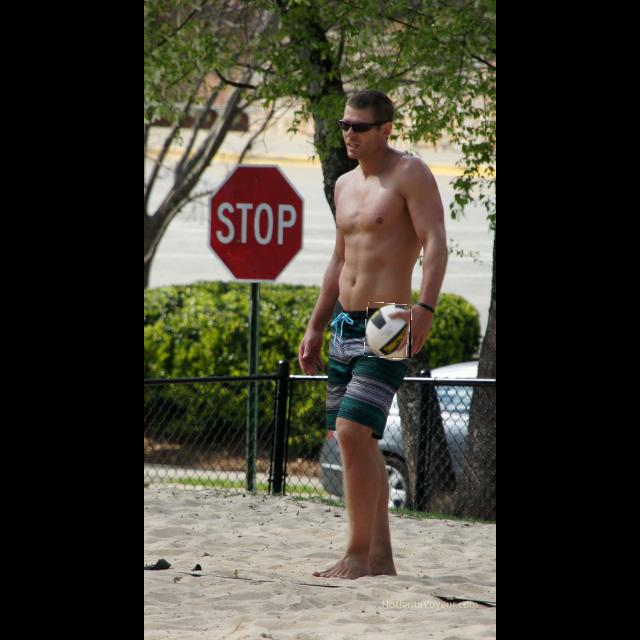Football: (365, 304, 411, 358)
